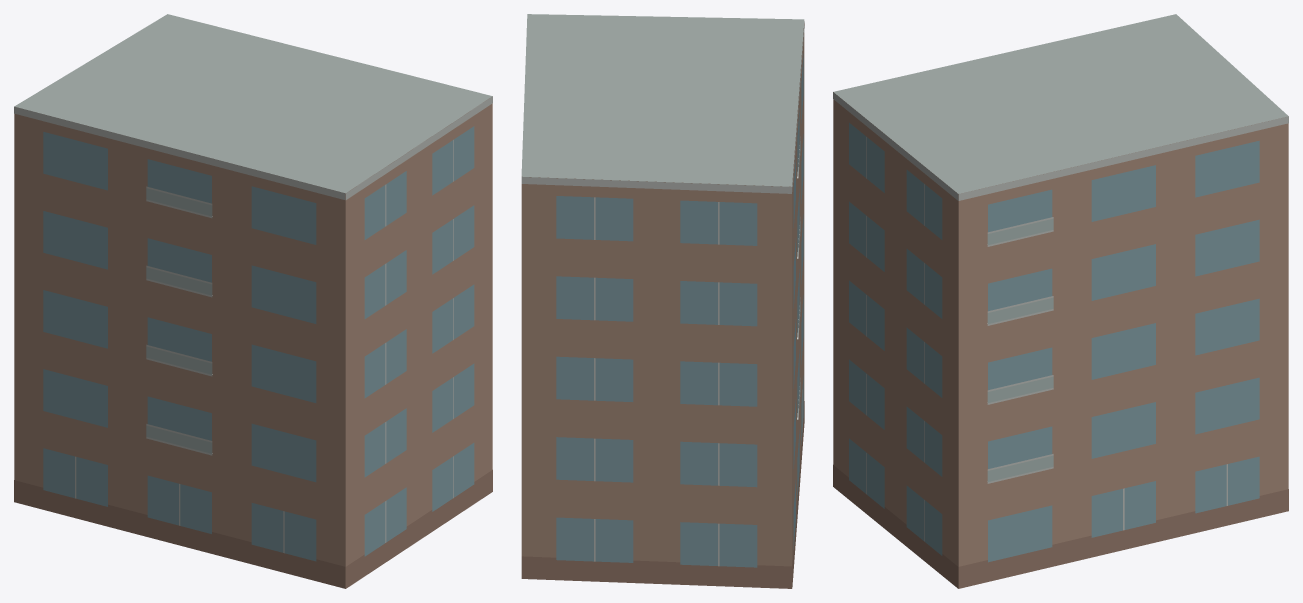
The model's file is survey-upis-32885137.glb.
3 views of the same model, side by side, from view 1: azimuth 30°, elevation 25°; view 2: azimuth 150°, elevation 25°; view 3: azimuth 270°, elevation 25° (orthographic).
Parts seen in each view (by area): view 1: survey-upis-32885137.tmp; view 2: survey-upis-32885137.tmp; view 3: survey-upis-32885137.tmp.
Part boxes in pixels (bbox=[...]): survey-upis-32885137.tmp: bbox=[14, 14, 492, 588]; survey-upis-32885137.tmp: bbox=[521, 14, 804, 588]; survey-upis-32885137.tmp: bbox=[833, 14, 1288, 588].
Bounding box in the file's own units: 13.41 × 13.7 × 14.34.
